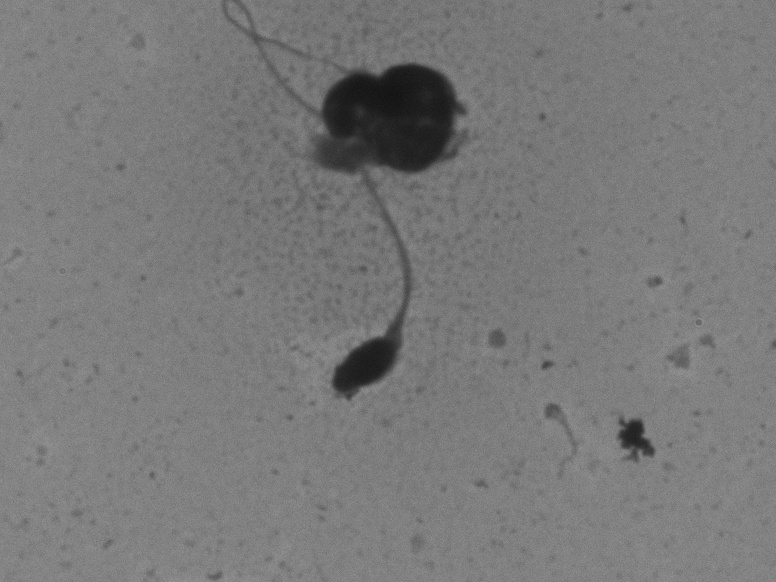Abnormal: (207, 6, 419, 412)
